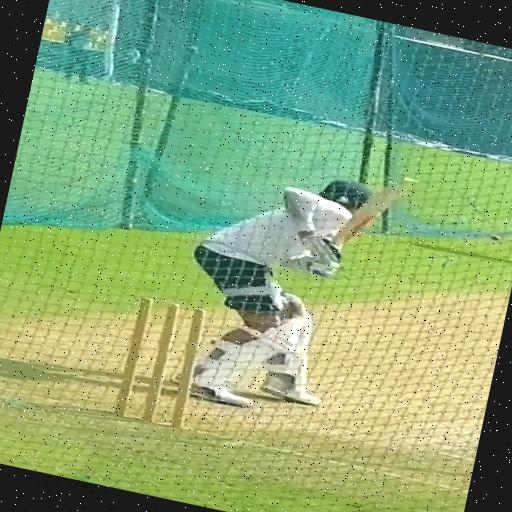Cricket bat: (336, 178, 416, 245)
